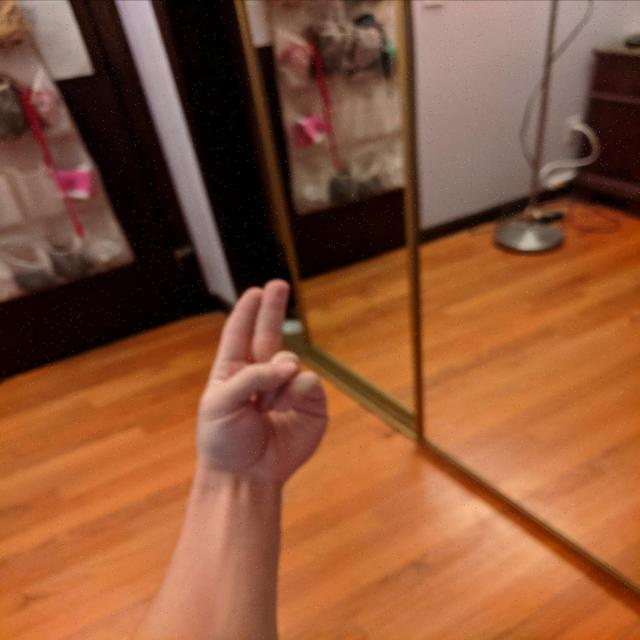U: (189, 275, 336, 491)
